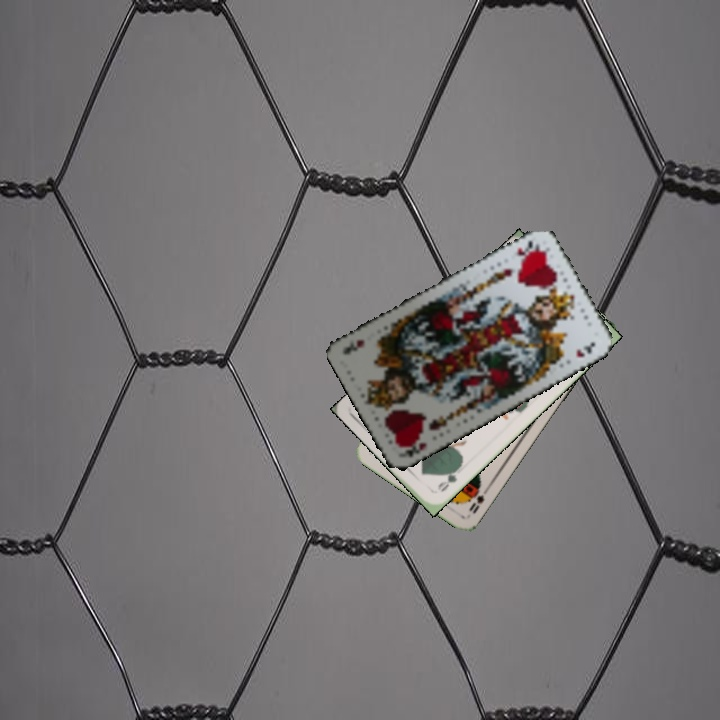GO: (433, 463, 462, 495)
HK: (396, 438, 429, 460), (512, 236, 542, 259)
SO: (465, 482, 493, 516)
